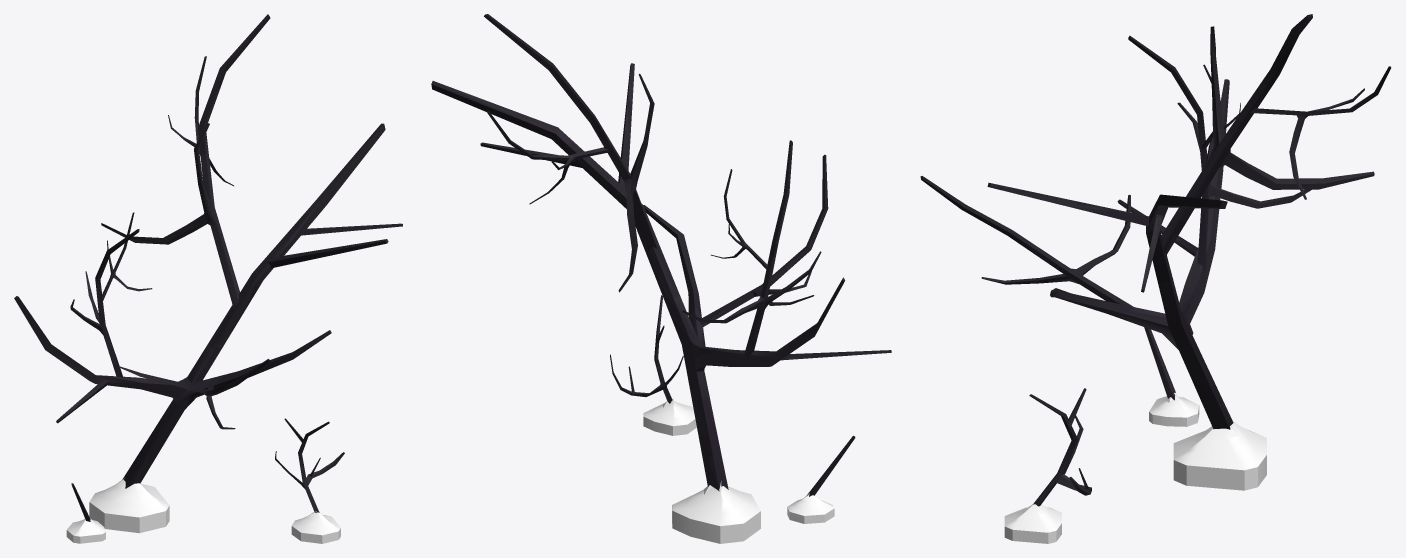
File: branches mortes2.fbx
3 views of the same model, side by side, from view 1: azimuth 30°, elevation 25°; view 2: azimuth 150°, elevation 25°; view 3: azimuth 270°, elevation 25° (orthographic). The views are drawn at different scales.
Visible parts, largest first — view 1: polySurface4, polySurface3, polySurface15, polySurface2, polySurface12, polySurface16, polySurface5; view 2: polySurface4, polySurface3, polySurface15, polySurface2, polySurface16, polySurface12; view 3: polySurface4, polySurface3, polySurface15, polySurface2, polySurface12, polySurface16, polySurface1.
Part boxes in pixels (x1,y1,x2,y2): polySurface4: [14, 123, 388, 488]; polySurface3: [101, 14, 270, 307]; polySurface15: [89, 478, 169, 533]; polySurface2: [291, 511, 340, 543]; polySurface12: [275, 418, 344, 512]; polySurface16: [66, 519, 105, 543]; polySurface5: [301, 223, 402, 235]; polySurface4: [431, 63, 891, 491]; polySurface3: [484, 14, 656, 292]; polySurface15: [672, 481, 760, 543]; polySurface2: [643, 398, 696, 435]; polySurface16: [787, 493, 834, 523]; polySurface12: [610, 295, 683, 403]; polySurface4: [920, 35, 1311, 429]; polySurface3: [1161, 14, 1391, 256]; polySurface15: [1173, 421, 1266, 490]; polySurface2: [1004, 504, 1061, 543]; polySurface12: [1029, 388, 1091, 506]; polySurface16: [1149, 392, 1199, 426]; polySurface1: [1144, 327, 1175, 400].
Bounding box in the file's own units: 21.4 × 24.22 × 18.31.
1 material, 1 textured.
